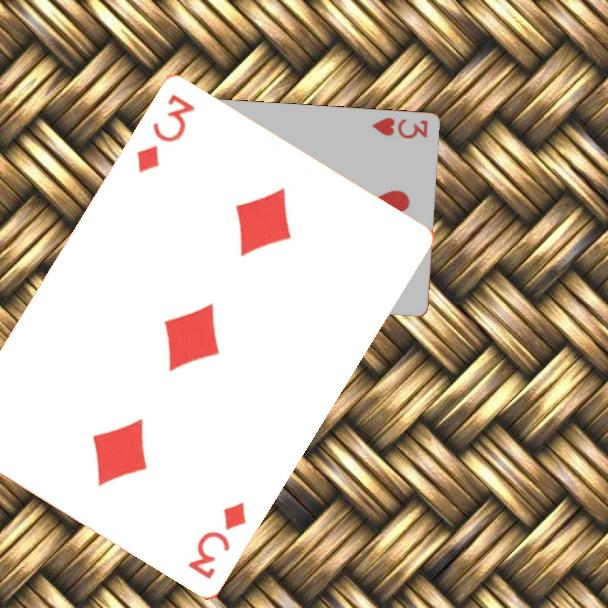d03: (133, 91, 198, 177), (184, 499, 250, 583)
h03: (368, 114, 430, 142)
